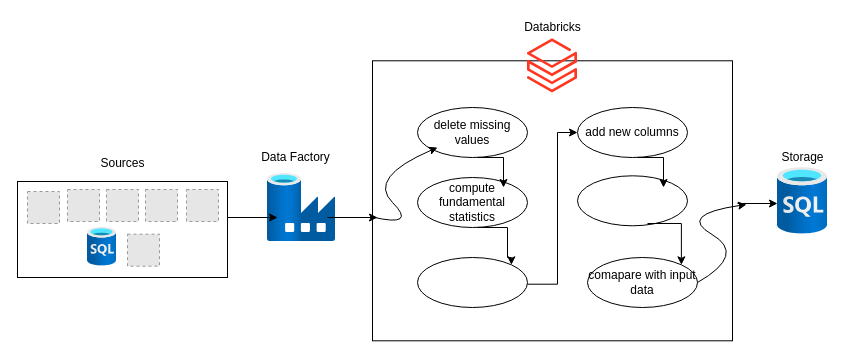
The diagram is 850 pixels wide and 358 high, and some of its shapes have lost their labels. Grey dashed boxes stand in for pictures. The shapes that lost their labels are listed below. From the top down, each one's box as (x1, y1, x2, y2) in pixels, then its label:
(576, 175, 688, 226): delete unnecessary data
(416, 256, 528, 308): delete outliers
